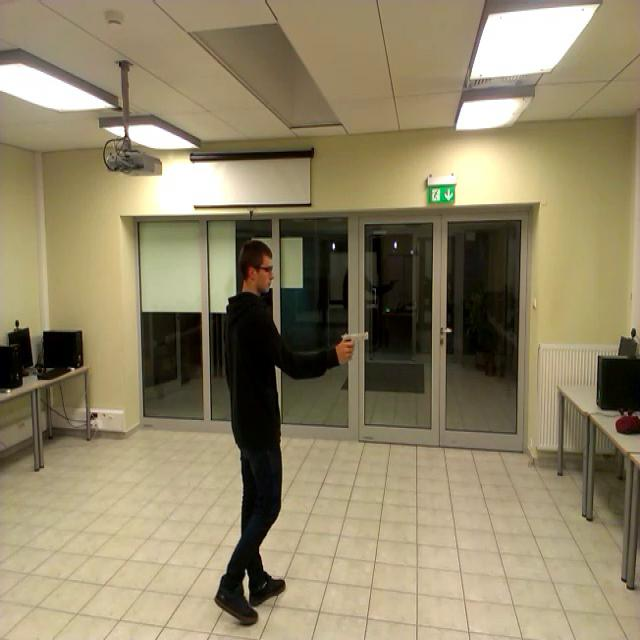handgun: (336, 326, 371, 366)
